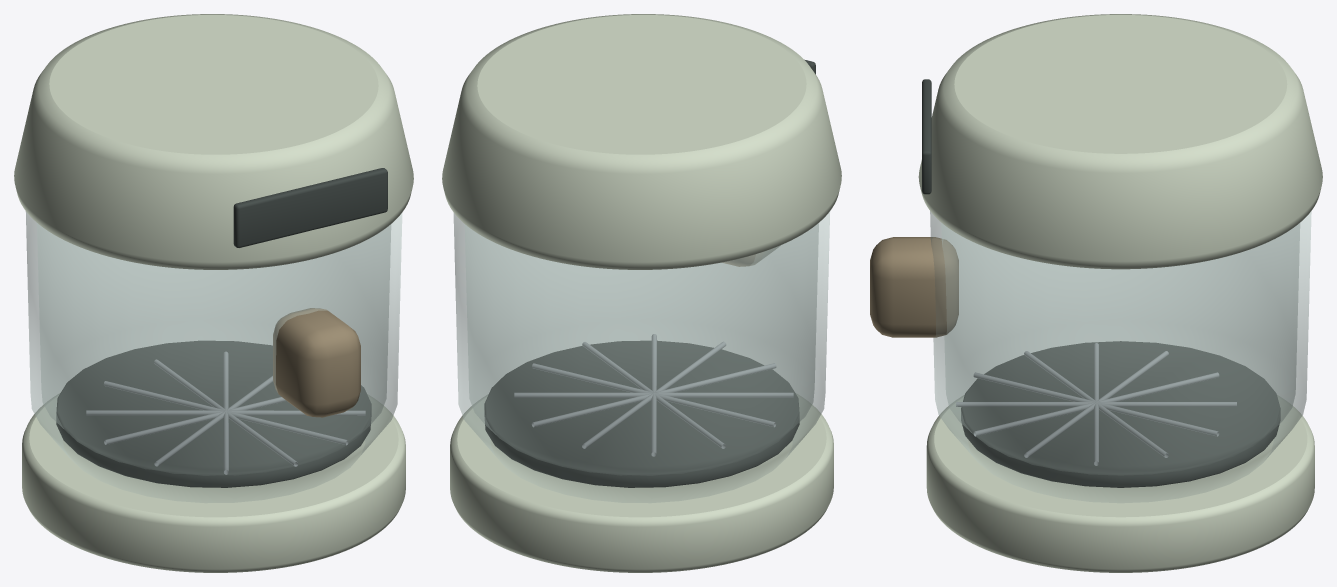
File: glass-air-fryer.glb
The picture shows the model from 3 angles, left to right: view 1: azimuth 30°, elevation 25°; view 2: azimuth 150°, elevation 25°; view 3: azimuth 270°, elevation 25°; orthographic projection.
Parts seen in each view (by area): view 1: catalog_surface_RealismUV, catalog_surface_UVMap; view 2: catalog_surface_RealismUV, catalog_surface_UVMap; view 3: catalog_surface_RealismUV, catalog_surface_UVMap.
Part boxes in pixels (bbox=[...]): catalog_surface_RealismUV: bbox=[14, 14, 413, 572]; catalog_surface_UVMap: bbox=[25, 168, 402, 502]; catalog_surface_RealismUV: bbox=[442, 14, 841, 572]; catalog_surface_UVMap: bbox=[453, 59, 830, 502]; catalog_surface_RealismUV: bbox=[918, 14, 1322, 572]; catalog_surface_UVMap: bbox=[870, 79, 1311, 502].
Size of the model in its own units: 0.3 by 0.34 by 0.34.
